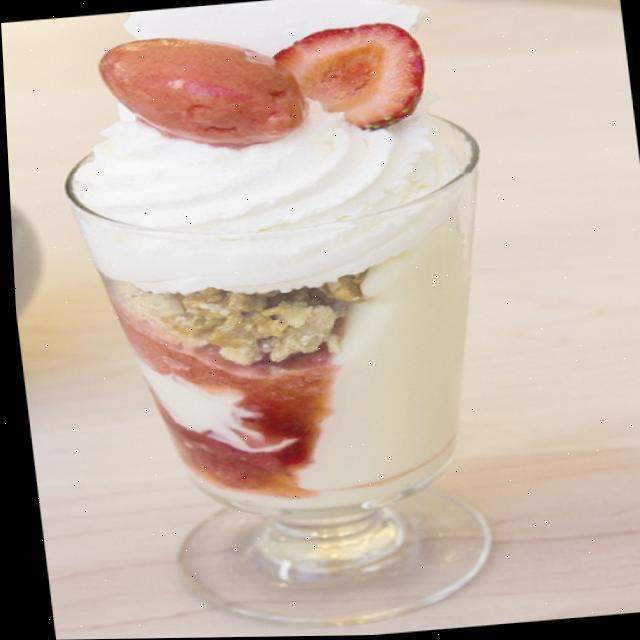蛋糕甜品: (15, 0, 601, 635)
